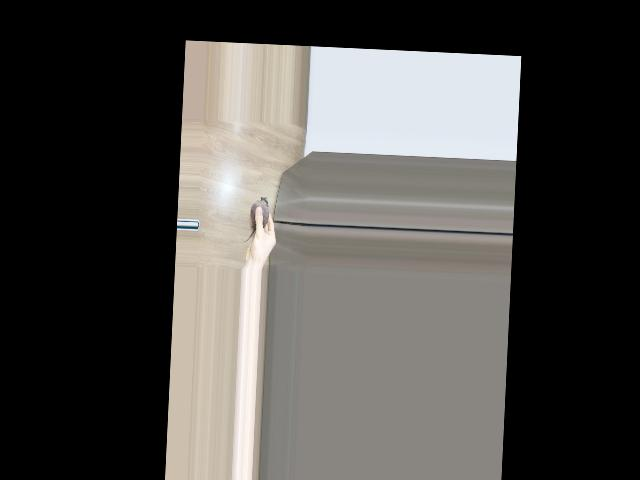beet: (242, 195, 270, 242)
